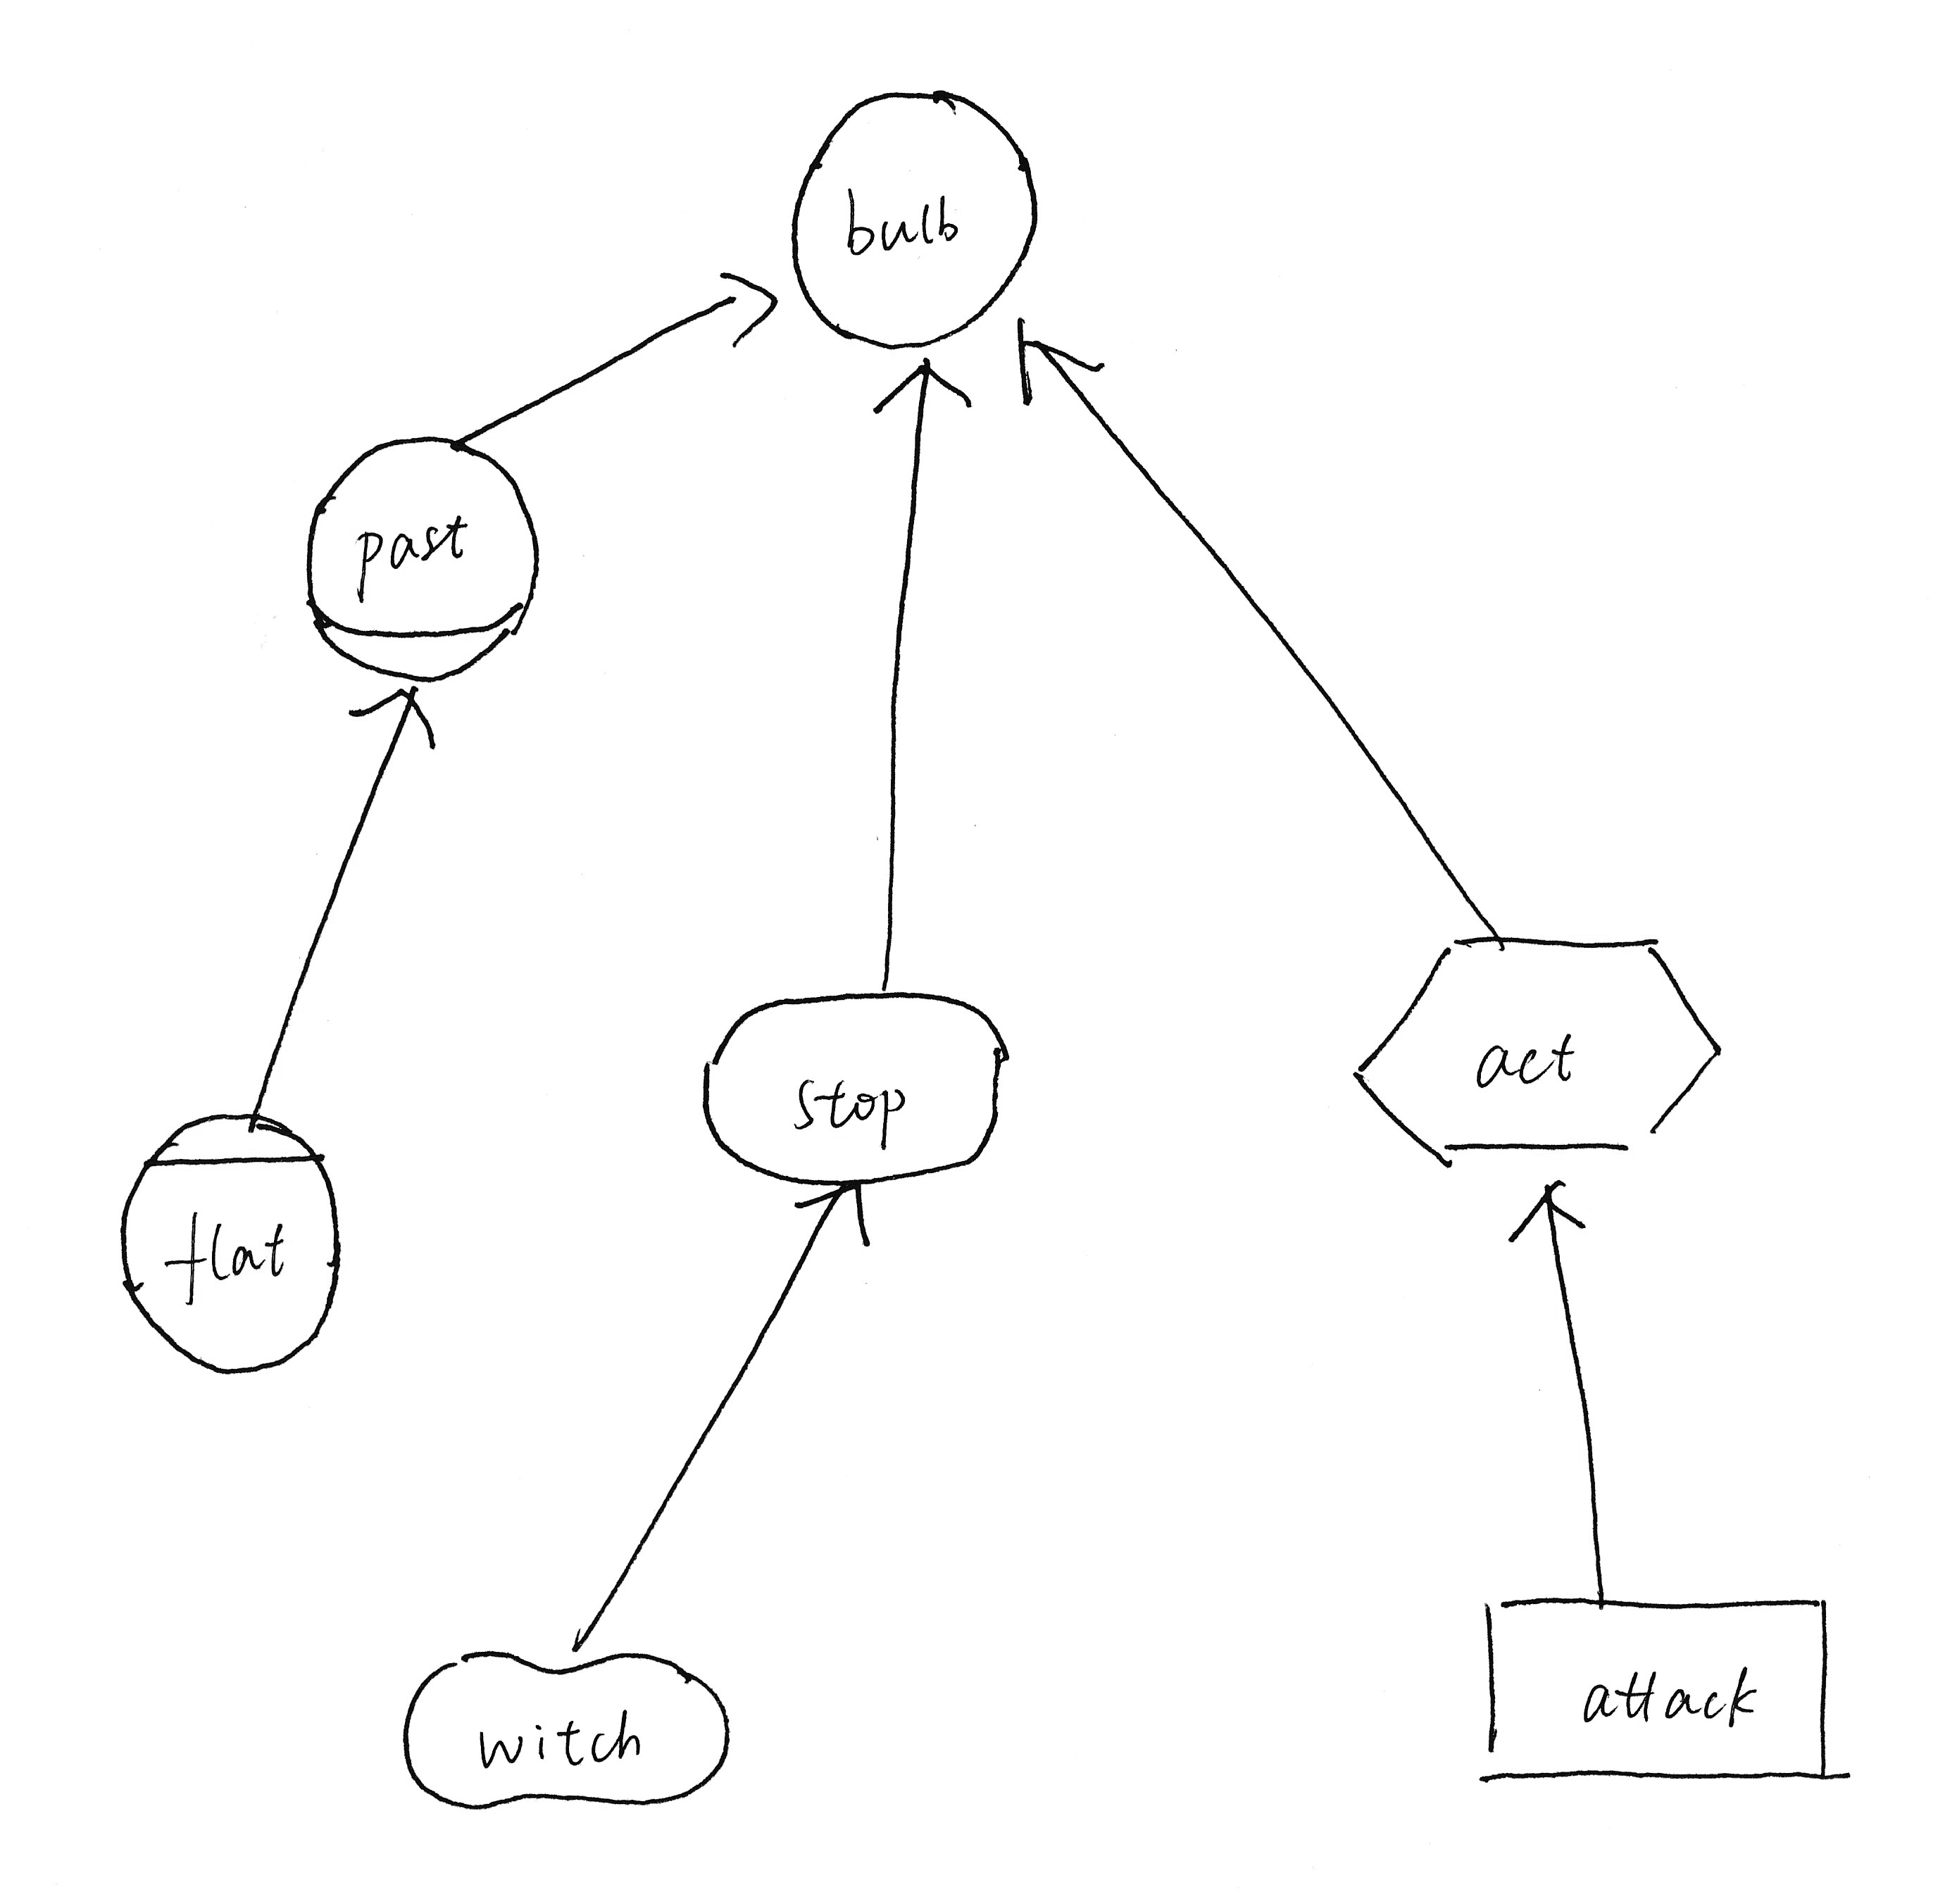actor: (771, 65, 1048, 363)
agent: (100, 1093, 355, 1397)
arrow: (998, 306, 1122, 416), (856, 348, 989, 447), (1483, 1163, 1604, 1263), (702, 255, 786, 374), (781, 1174, 882, 1265)
goal: (680, 975, 1022, 1204)
quality: (386, 1632, 751, 1822)
resource: (1452, 1570, 1870, 1806)
role: (278, 421, 554, 695)
task: (1333, 912, 1742, 1177)
